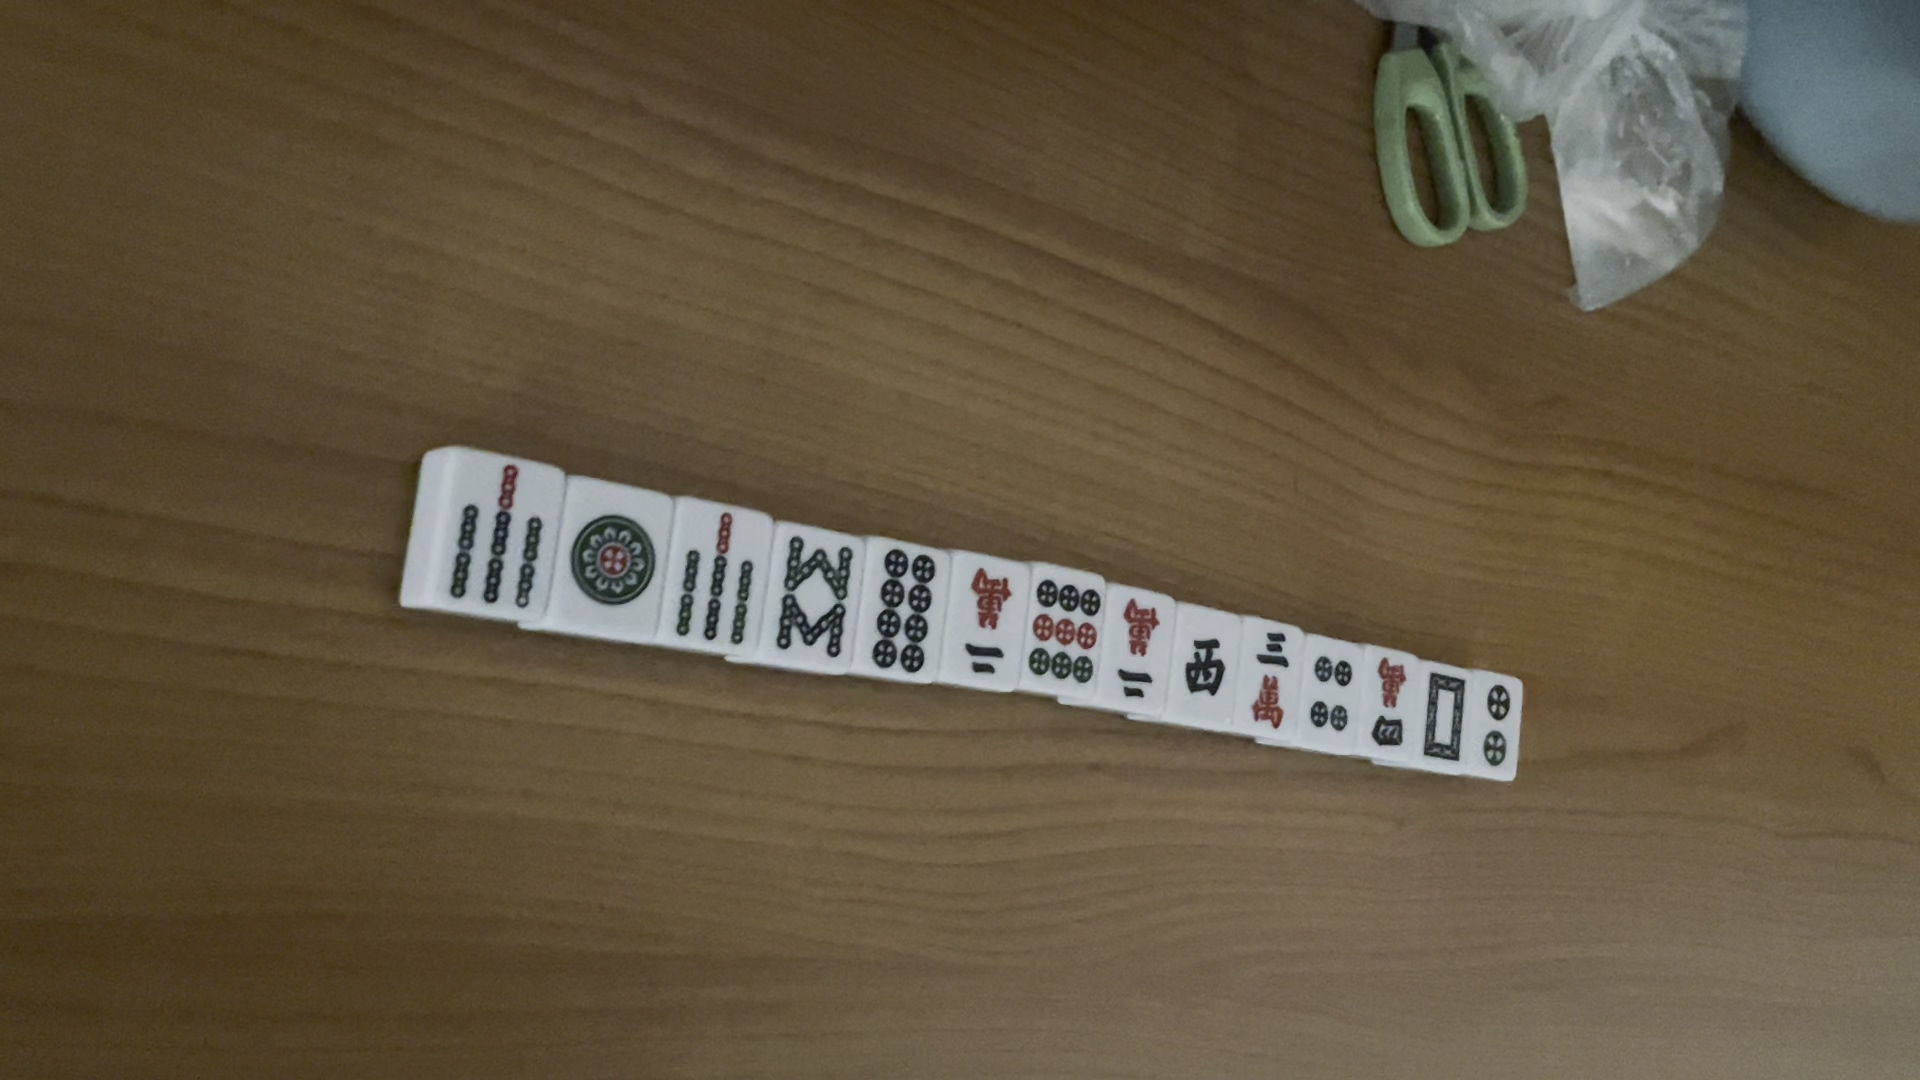b-7: (429, 459, 547, 612), (669, 509, 756, 654)
b-8: (775, 534, 858, 663)
c-2: (955, 567, 1018, 680), (1112, 596, 1164, 704)
c-3: (1244, 625, 1294, 727)
c-4: (1370, 654, 1410, 750)
d-1: (560, 508, 661, 608)
d-2: (1478, 679, 1515, 773)
d-4: (1305, 650, 1354, 737)
d-8: (868, 546, 942, 676)
d-9: (1026, 572, 1102, 692)
hornors-west: (1180, 630, 1225, 705)
hornors-white: (1419, 663, 1468, 766)
